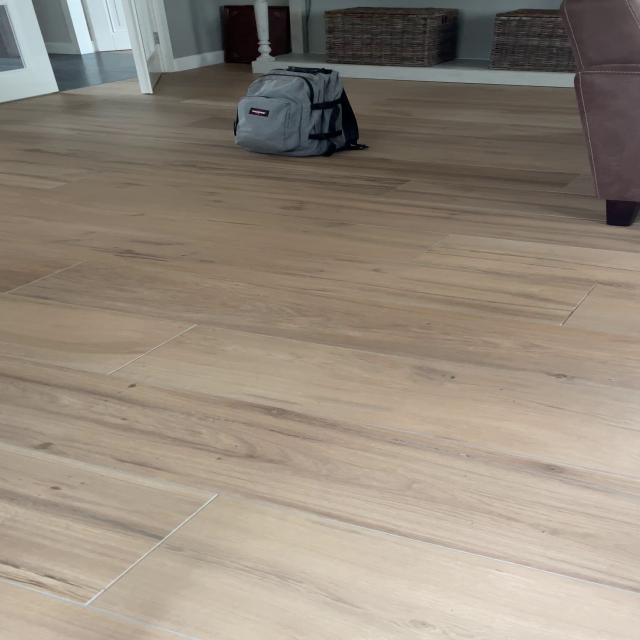backpack: (226, 60, 366, 162)
